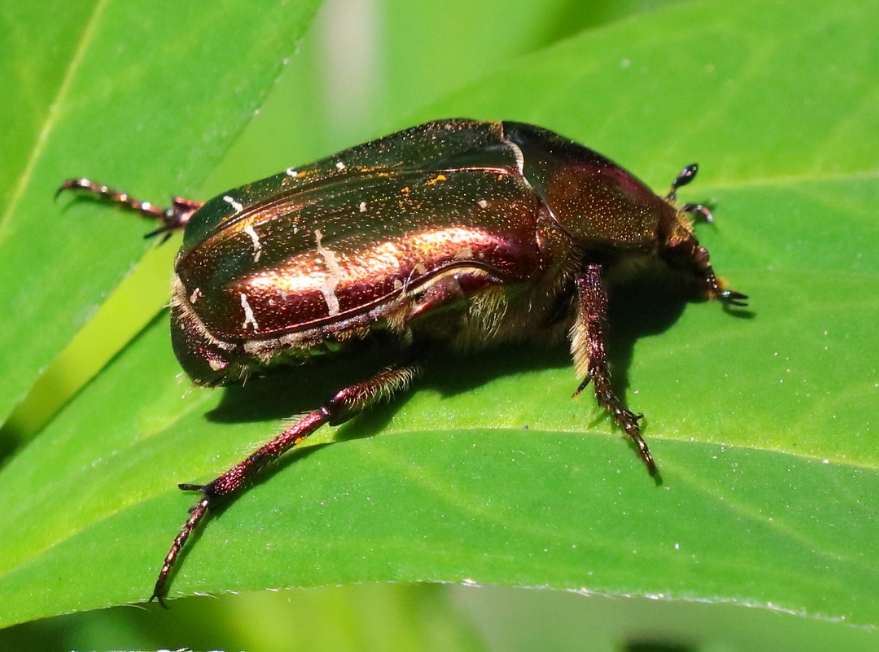Cetonia_aurata: (27, 100, 754, 611)
